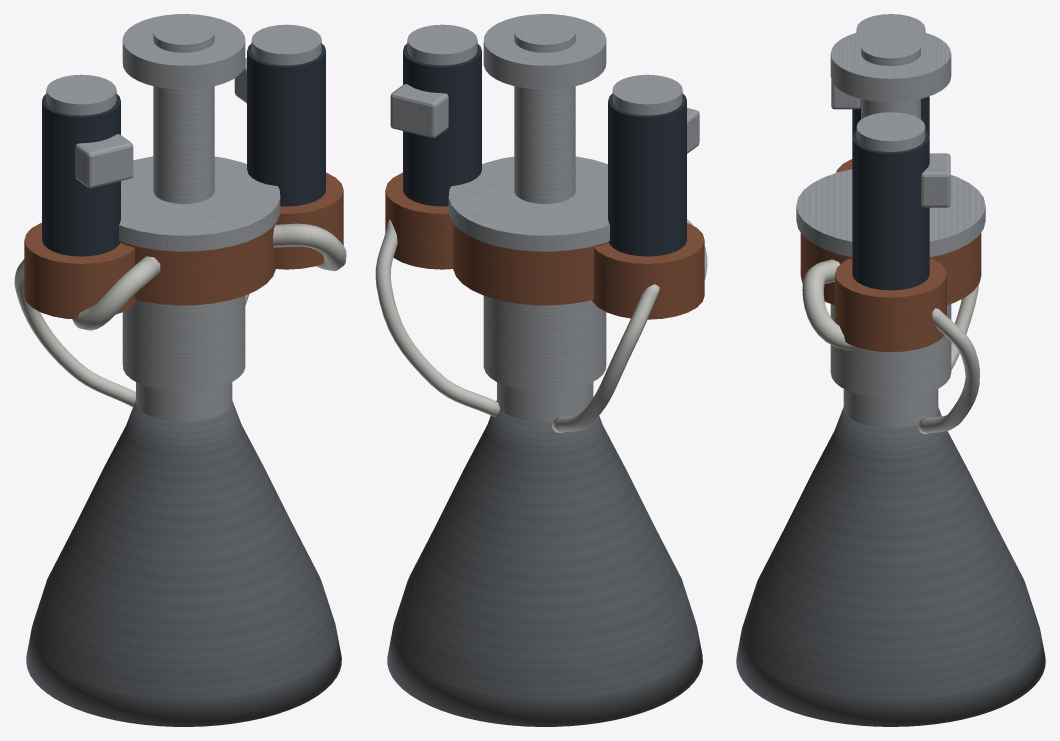
The model's file is rutherford.glb.
The picture shows the model from 3 angles, left to right: view 1: azimuth 30°, elevation 25°; view 2: azimuth 150°, elevation 25°; view 3: azimuth 270°, elevation 25°; orthographic projection. The views are drawn at different scales.
Parts seen in each view (by area): view 1: Rutherford_Nozzle, ElectricPump_Motor.001, CombustionChamber, Injector_Flange, ElectricPump_Motor, Gimbal_Stem, Injector_Head, Mount_Flange, Pump_Housing, Pump_Housing.001, Chamber_Throat, Cooling_Return (+5 smaller); view 2: Rutherford_Nozzle, ElectricPump_Motor, Injector_Flange, CombustionChamber, Gimbal_Stem, ElectricPump_Motor.001, Injector_Head, Pump_Housing, Mount_Flange, Pump_Housing.001, Cooling_Return.001, Cooling_Return (+4 smaller); view 3: Rutherford_Nozzle, ElectricPump_Motor.001, Pump_Housing.001, Injector_Flange, Mount_Flange, CombustionChamber, Injector_Head, Chamber_Throat, Gimbal_Stem, Cooling_Return.001, Motor_Endcap.004, Propellant_Feed.001 (+4 smaller).
Part boxes in pixels (left/top/right/bottom): Rutherford_Nozzle: left=26, top=400, right=341, bottom=726; ElectricPump_Motor.001: left=247, top=43, right=325, bottom=206; CombustionChamber: left=122, top=296, right=245, bottom=391; Injector_Flange: left=119, top=156, right=280, bottom=251; ElectricPump_Motor: left=42, top=93, right=120, bottom=256; Gimbal_Stem: left=153, top=19, right=214, bottom=203; Injector_Head: left=120, top=223, right=275, bottom=305; Mount_Flange: left=122, top=14, right=245, bottom=89; Pump_Housing: left=24, top=222, right=136, bottom=319; Pump_Housing.001: left=276, top=172, right=343, bottom=269; Chamber_Throat: left=136, top=382, right=232, bottom=421; Cooling_Return: left=14, top=259, right=135, bottom=407; Rutherford_Nozzle: left=387, top=400, right=702, bottom=726; ElectricPump_Motor: left=608, top=93, right=686, bottom=256; Injector_Flange: left=448, top=156, right=609, bottom=251; CombustionChamber: left=483, top=296, right=606, bottom=391; Gimbal_Stem: left=514, top=19, right=575, bottom=203; ElectricPump_Motor.001: left=403, top=43, right=481, bottom=206; Injector_Head: left=453, top=223, right=608, bottom=305; Pump_Housing: left=592, top=222, right=704, bottom=319; Mount_Flange: left=483, top=14, right=606, bottom=89; Pump_Housing.001: left=385, top=172, right=452, bottom=269; Cooling_Return.001: left=375, top=219, right=499, bottom=417; Cooling_Return: left=552, top=284, right=659, bottom=432; Rutherford_Nozzle: left=736, top=407, right=1045, bottom=726; ElectricPump_Motor.001: left=852, top=130, right=929, bottom=290; Pump_Housing.001: left=835, top=258, right=946, bottom=352; Injector_Flange: left=796, top=169, right=985, bottom=257; Mount_Flange: left=830, top=28, right=951, bottom=102; CombustionChamber: left=830, top=304, right=951, bottom=398; Injector_Head: left=800, top=233, right=981, bottom=305; Chamber_Throat: left=843, top=389, right=938, bottom=427; Gimbal_Stem: left=861, top=33, right=920, bottom=119; Cooling_Return.001: left=918, top=308, right=979, bottom=433; Motor_Endcap.004: left=856, top=112, right=925, bottom=151; Propellant_Feed.001: left=802, top=259, right=860, bottom=350.
Bounding box in the file's own units: 0.4 × 0.79 × 0.36.
Materials: 5 (4 with a texture image).
